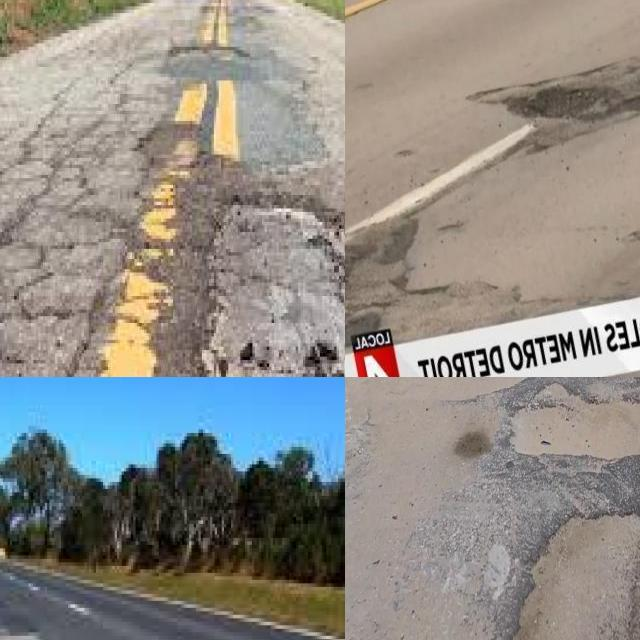Pothole: (173, 185, 345, 377), (204, 206, 345, 377), (137, 159, 244, 377), (510, 508, 640, 640), (490, 47, 640, 158), (345, 228, 474, 336), (504, 377, 640, 461), (470, 56, 640, 121), (172, 153, 255, 230), (133, 118, 210, 175), (165, 43, 248, 66)
